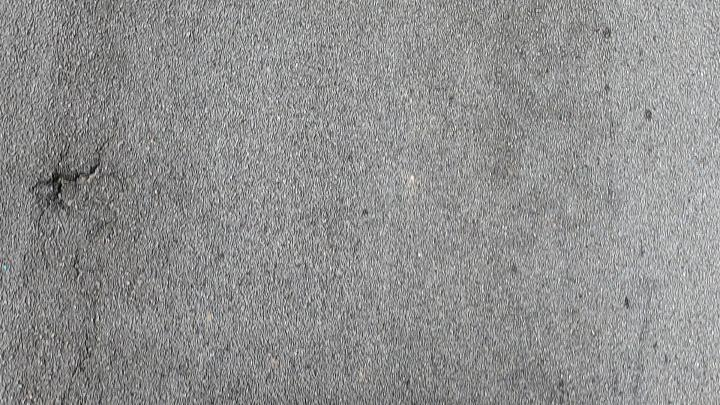Crack: (26, 157, 103, 218), (29, 158, 100, 214)
